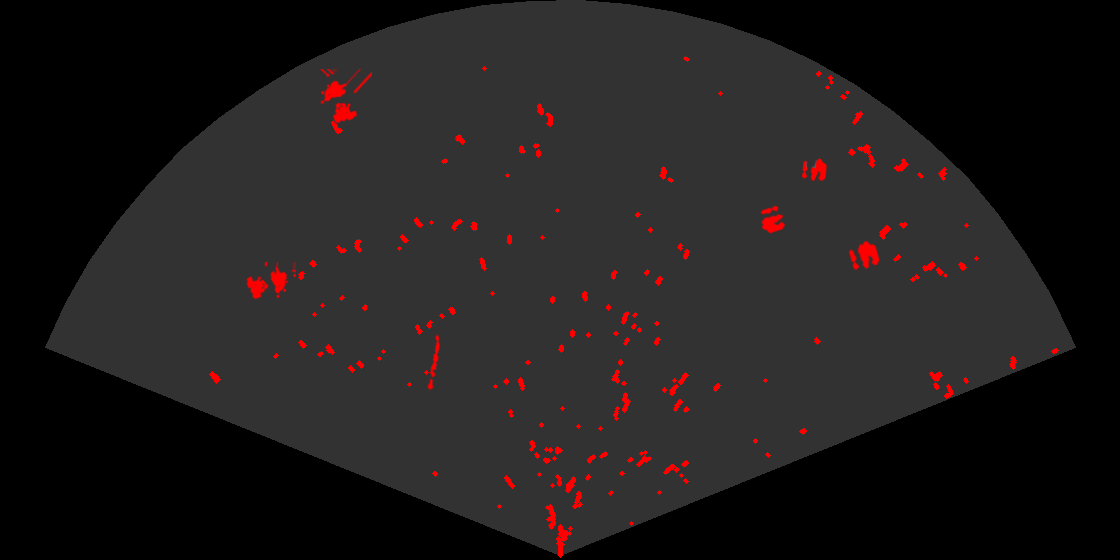ball: (847, 239, 882, 272), (759, 204, 787, 235), (800, 157, 828, 183)
cage: (318, 69, 372, 125), (245, 262, 296, 301)
chain: (426, 333, 442, 391)
